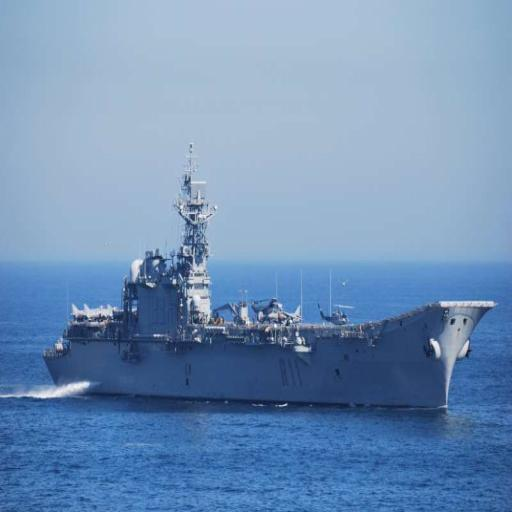Portanaves: (46, 138, 503, 417)
